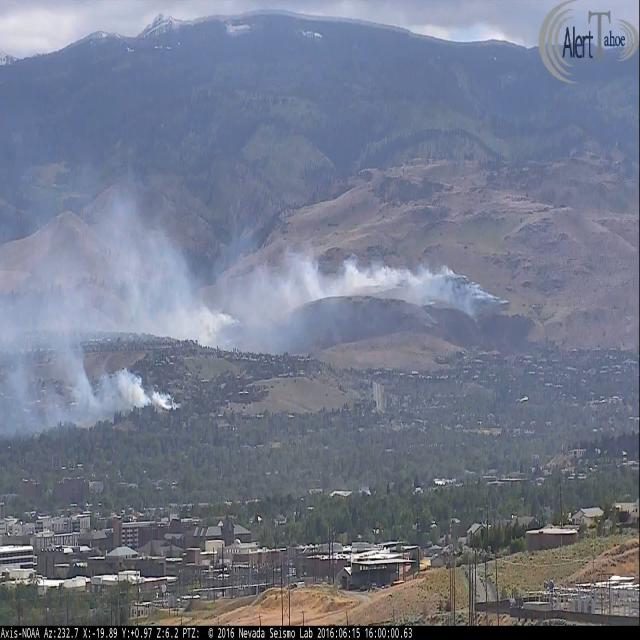smoke: (0, 193, 304, 354), (0, 322, 182, 433), (275, 242, 511, 312)
